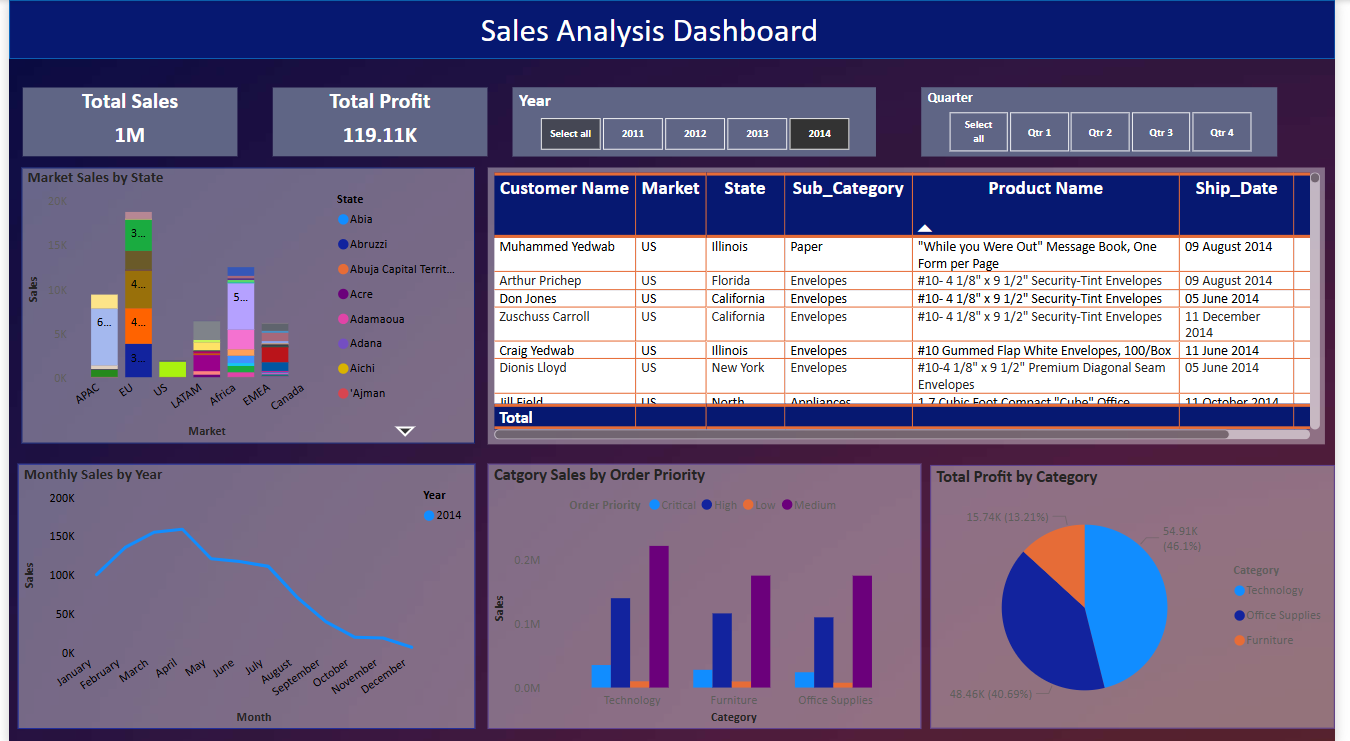

This screenshot's page, from the dashboard's own definition file:
{"tool":"powerbi","page":{"name":"SalesAnalysis","canvas":[1280,720],"ordinal":0},"visuals":[{"type":"card","title":"Total Sales","fields":{"Values":["SuperStoreOrders2.sales"]},"box":[12.8,84.9,207,66.3],"z":0},{"type":"card","title":"Total Profit","fields":{"Values":["SuperStoreOrders2.profit"]},"box":[254.7,84.9,207,66.3],"z":1000},{"type":"slicer","title":"Year","fields":{"Values":["SuperStoreOrders2.year"]},"box":[486,84.9,350,66.3],"z":2000},{"type":"tableEx","fields":{"Values":["SuperStoreOrders2.customer_name","SuperStoreOrders2.market","SuperStoreOrders2.state","SuperStoreOrders2.sub_category","SuperStoreOrders2.product_name","SuperStoreOrders2.ship_date","SuperStoreOrders2.sales"]},"box":[462,161.1,807.9,267],"z":3000},{"type":"columnChart","title":"Market Sales by State","fields":{"Y":["SuperStoreOrders2.sales"],"Category":["SuperStoreOrders2.market"],"Series":["SuperStoreOrders2.state"]},"box":[12.3,161.9,437.7,266.2],"z":4000},{"type":"lineChart","title":"Monthly Sales by Year","fields":{"Y":["SuperStoreOrders2.sales"],"Series":["SuperStoreOrders2.order_date.Variation.Date Hierarchy.Year"],"Category":["SuperStoreOrders2.order_date.Variation.Date Hierarchy.Month"]},"box":[7.9,447.3,441.7,255.8],"z":5000},{"type":"slicer","title":"Quarter","fields":{"Values":["SuperStoreOrders2.order_date.Variation.Date Hierarchy.Quarter"]},"box":[880.2,84.9,343,66.3],"z":6000},{"type":"clusteredColumnChart","title":"Catgory Sales by Order Priority","fields":{"Category":["SuperStoreOrders2.category"],"Y":["SuperStoreOrders2.sales"],"Series":["SuperStoreOrders2.order_priority"]},"box":[461.6,447.7,418.6,255.8],"z":7000},{"type":"pieChart","title":"Total Profit by Category","fields":{"Category":["SuperStoreOrders2.category"],"Y":["SuperStoreOrders2.profit"]},"box":[889.5,448.8,390.7,254.7],"z":8000},{"type":"shape","box":[0,0,1280.2,57],"z":9000},{"type":"textbox","title":"Sales Analysis Dashboard","box":[372.1,9.3,493,38.4],"z":10000}]}

Visuals, with their boxes in screenshot pixels (x1, y1, x2, y2), scaled from the page's 1280x720 canvas onto the 1350x741 screenshot:
"Total Sales" card: {"left": 14, "top": 87, "right": 232, "bottom": 156}
"Total Profit" card: {"left": 269, "top": 87, "right": 487, "bottom": 156}
"Year" slicer: {"left": 513, "top": 87, "right": 882, "bottom": 156}
tableEx - SuperStoreOrders2.customer_name x SuperStoreOrders2.market: {"left": 487, "top": 166, "right": 1339, "bottom": 441}
"Market Sales by State" columnChart: {"left": 13, "top": 167, "right": 475, "bottom": 441}
"Monthly Sales by Year" lineChart: {"left": 8, "top": 460, "right": 474, "bottom": 724}
"Quarter" slicer: {"left": 928, "top": 87, "right": 1290, "bottom": 156}
"Catgory Sales by Order Priority" clusteredColumnChart: {"left": 487, "top": 461, "right": 928, "bottom": 724}
"Total Profit by Category" pieChart: {"left": 938, "top": 462, "right": 1349, "bottom": 724}
shape: {"left": 0, "top": 0, "right": 1349, "bottom": 59}
"Sales Analysis Dashboard" textbox: {"left": 392, "top": 10, "right": 912, "bottom": 49}
